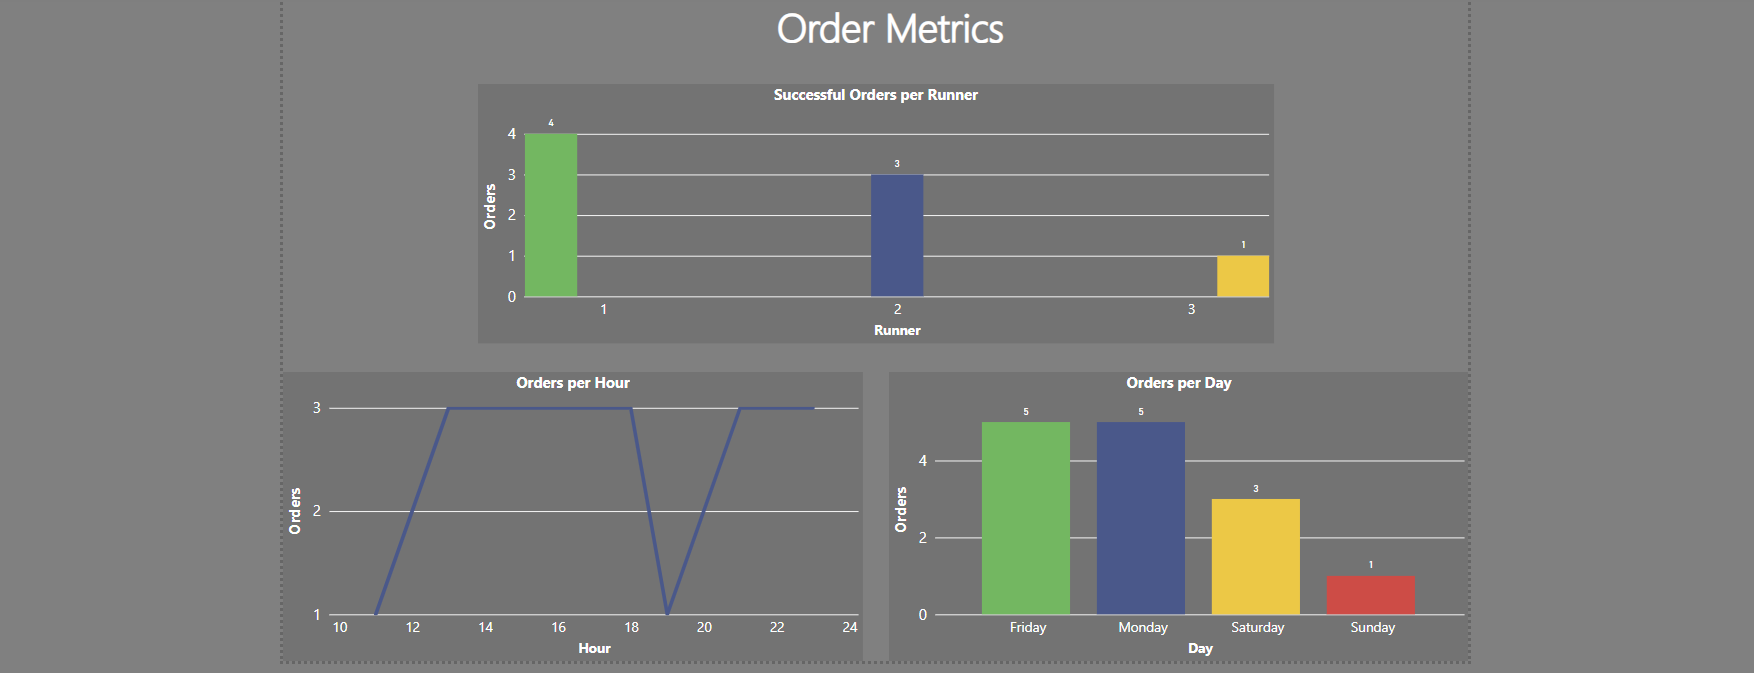

Layout of this report page (visuals, bound fields, positions):
{"tool":"powerbi","page":{"name":"Order Metrics","canvas":[1280,720],"ordinal":1},"visuals":[{"type":"clusteredColumnChart","title":"Successful Orders per Runner","fields":{"Category":["Query3.runner_id"],"Y":["Sum(Query3.succesful_orders)"],"Series":["Query3.runner_id"]},"box":[210.3,97.1,859.1,279.9],"z":0},{"type":"lineChart","title":"Orders per Hour","fields":{"Category":["Query9.hour"],"Y":["Sum(Query9.order_count)"]},"box":[0,407.7,626.2,312.3],"z":1000},{"type":"columnChart","title":"Orders per Day","fields":{"Category":["Query10.day_of_week"],"Y":["Sum(Query10.order_count)"],"Series":["Query10.day_of_week"]},"box":[653.7,407.7,626.2,312.3],"z":2000},{"type":"textbox","box":[482.2,0,346.2,79.3],"z":3000}]}

Visuals, with their boxes on the page's 1280x720 design canvas (x1, y1, x2, y2). These are canvas units, not pixel positions in the 1754x673 screenshot, which may show the page scaled, cropped or inside an application window:
"Successful Orders per Runner" clusteredColumnChart: bbox=[210, 97, 1069, 377]
"Orders per Hour" lineChart: bbox=[0, 408, 626, 720]
"Orders per Day" columnChart: bbox=[654, 408, 1280, 720]
textbox: bbox=[482, 0, 828, 79]
